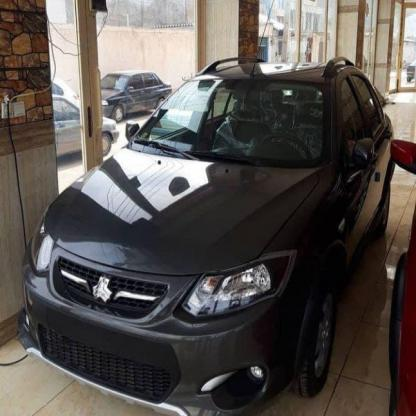Car: (24, 60, 396, 405), (11, 88, 120, 162), (66, 56, 180, 118)
